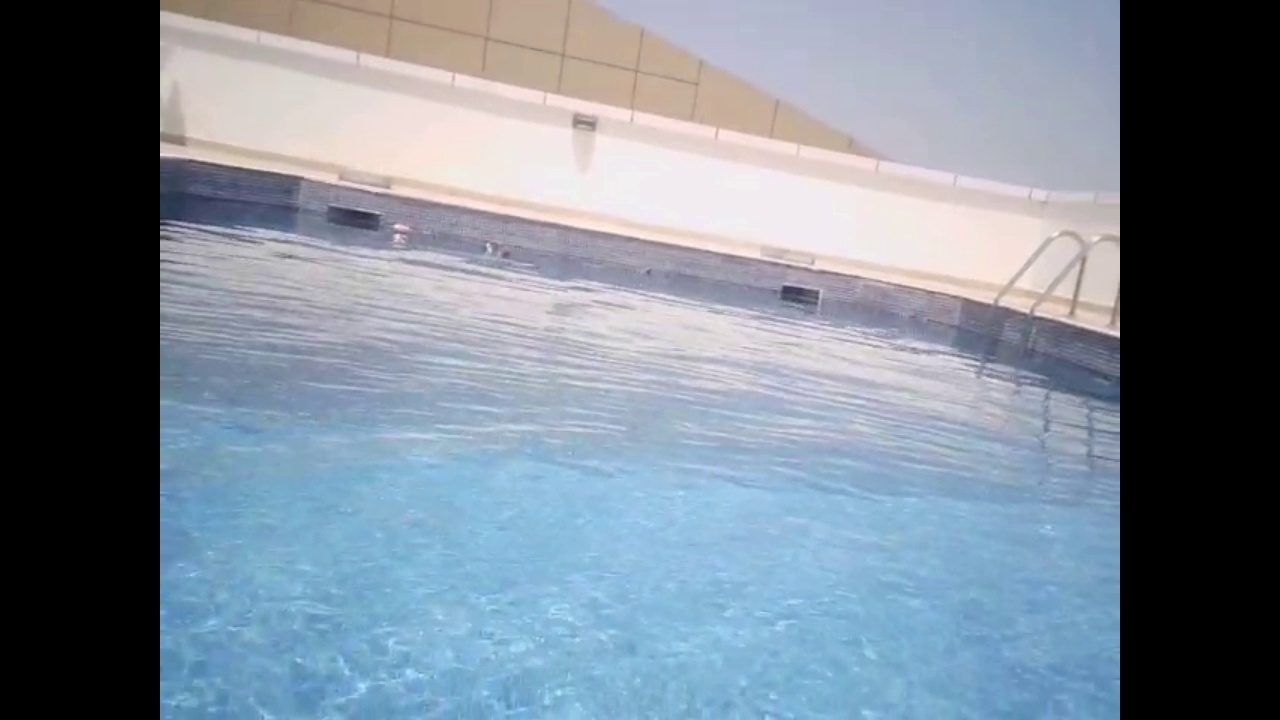debris: (388, 219, 408, 239), (482, 237, 502, 255), (494, 243, 510, 260), (637, 263, 654, 276)
